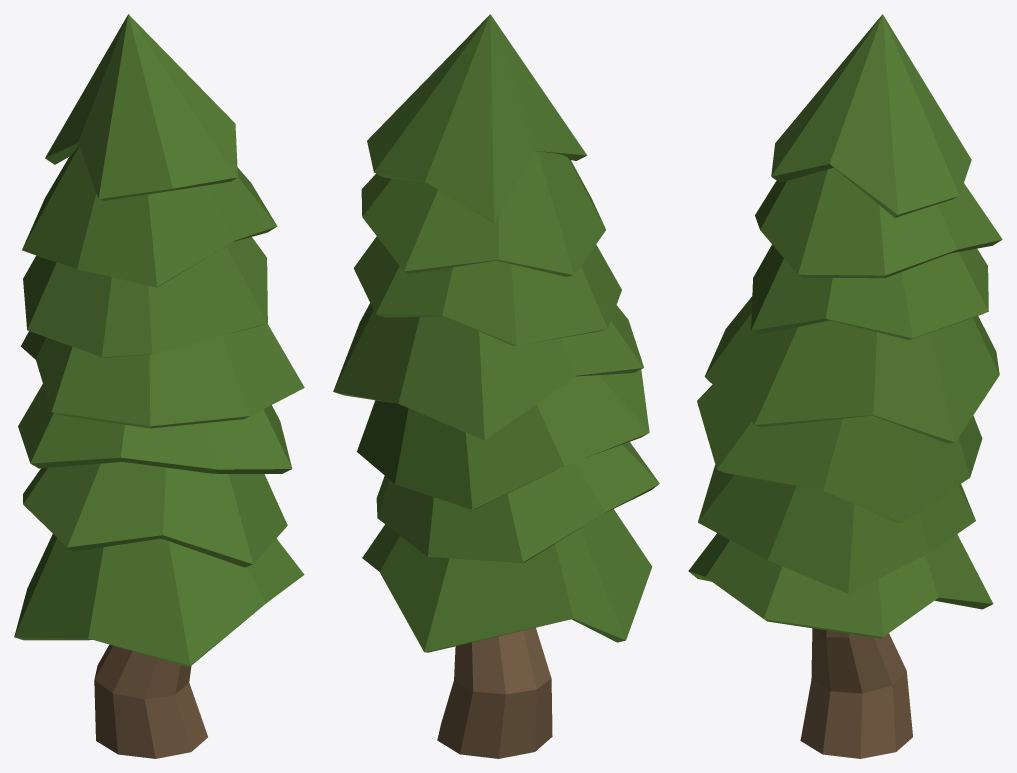
The model's file is tree5.fbx.
The picture shows the model from 3 angles, left to right: view 1: azimuth 30°, elevation 25°; view 2: azimuth 150°, elevation 25°; view 3: azimuth 270°, elevation 25°; orthographic projection. The views are drawn at different scales.
Visible parts, largest first — view 1: Cone.002; view 2: Cone.002; view 3: Cone.002.
Boxes of the visible parts, bbox=[...] form: Cone.002: bbox=[14, 14, 304, 758]; Cone.002: bbox=[333, 14, 659, 758]; Cone.002: bbox=[688, 14, 1002, 758].
Size of the model in its own units: 116 by 306 by 122.
